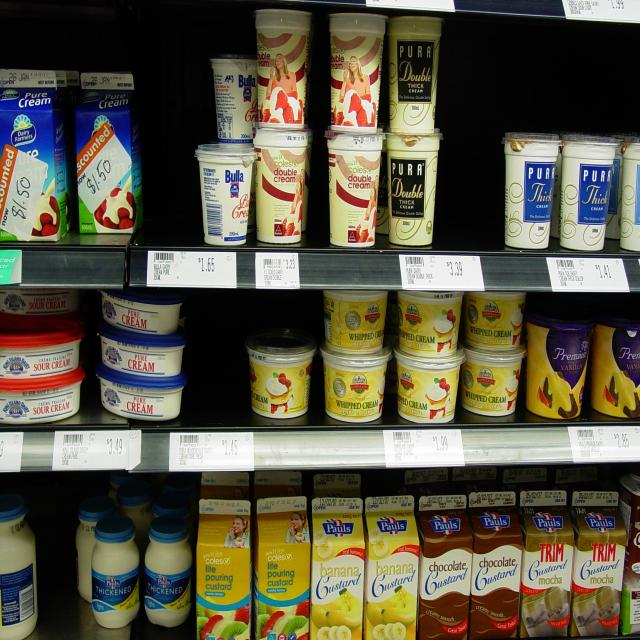empty_space: (146, 16, 198, 232), (447, 28, 497, 224), (192, 298, 252, 436)
